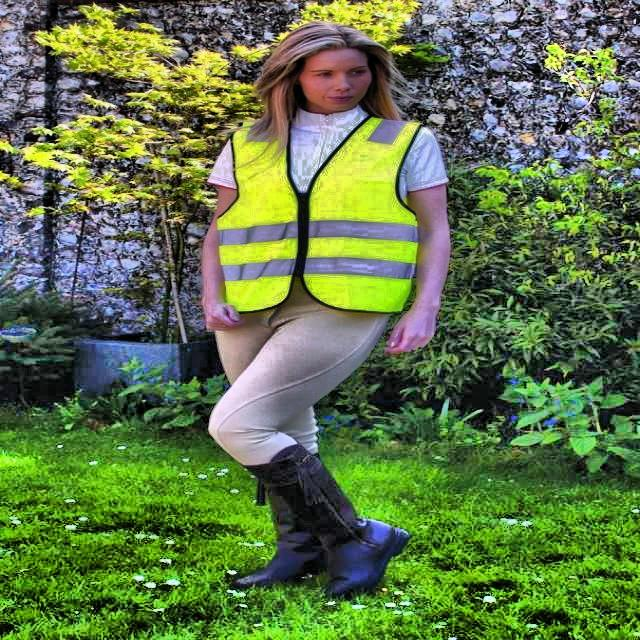safety_jacket: (208, 112, 430, 318)
